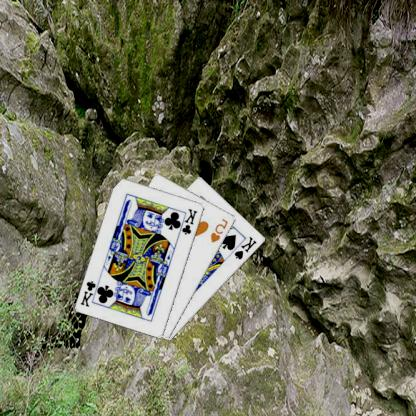5H: (210, 216, 231, 244)
KC: (80, 277, 103, 308), (178, 206, 200, 236)
KS: (233, 234, 260, 261)
